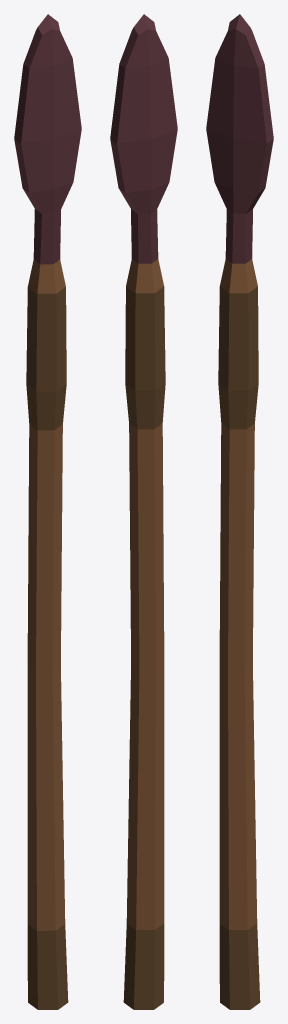
File: zulu-spear-zulu.glb
The picture shows the model from 3 angles, left to right: view 1: azimuth 30°, elevation 25°; view 2: azimuth 210°, elevation 25°; view 3: azimuth 330°, elevation 25°; orthographic projection.
Visible parts, largest first — view 1: spear-zulu; view 2: spear-zulu; view 3: spear-zulu.
Part boxes in pixels (x1,y1,x2,y2): spear-zulu: (14,14,81,1009); spear-zulu: (110,14,177,1009); spear-zulu: (206,14,273,1009).
Bounding box in the file's own units: 0.066 × 1.03 × 0.0381.
